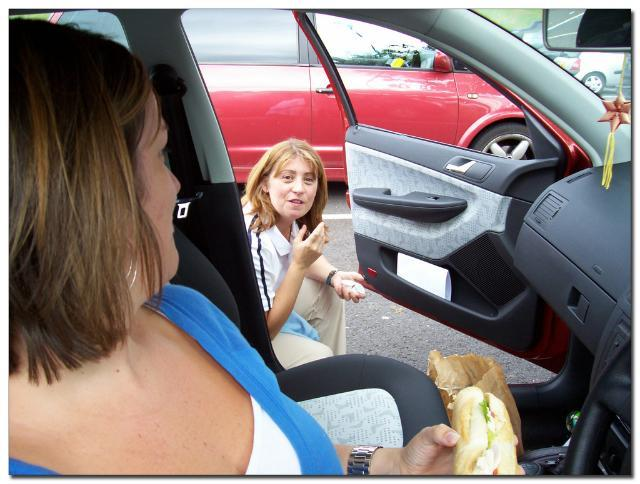SafeDriving: (278, 169, 296, 184)
Seatbelt: (148, 65, 235, 293)
